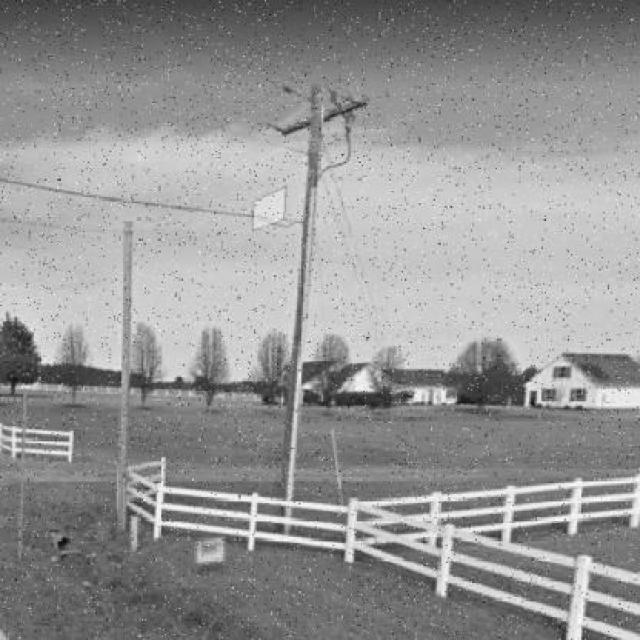pole: (202, 27, 442, 604)
